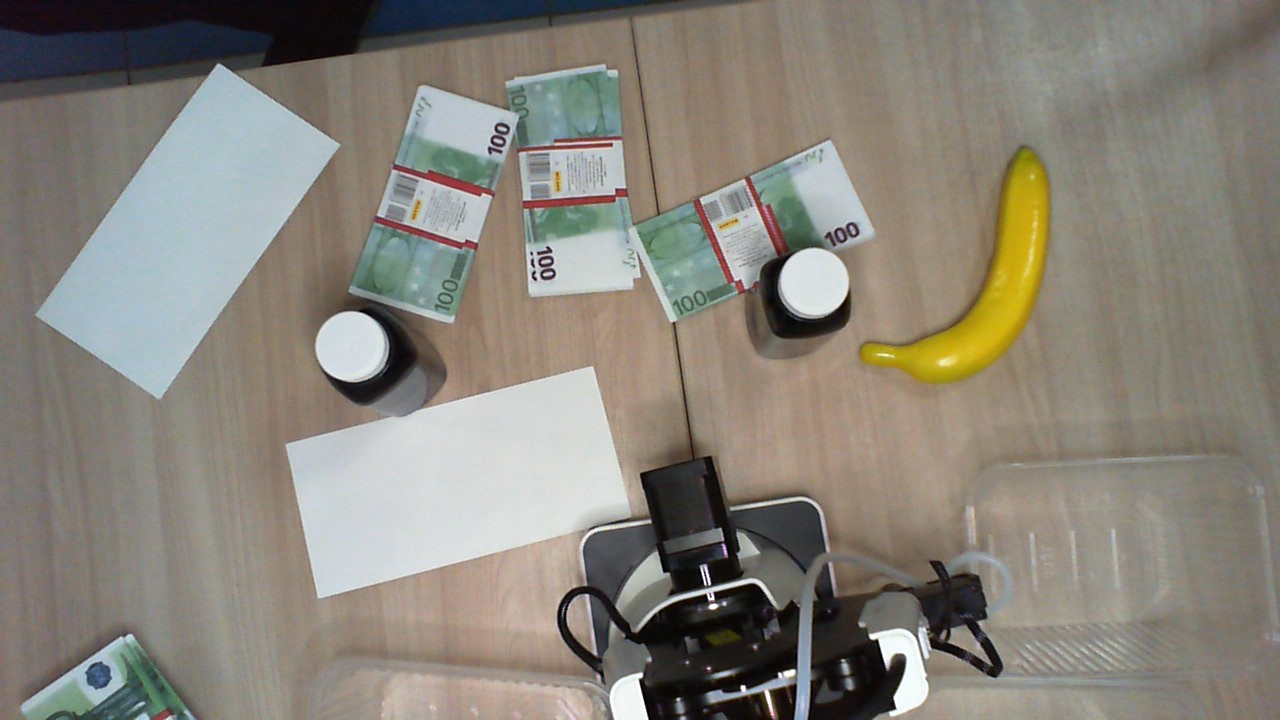banana: (856, 143, 1053, 386)
bottle: (315, 303, 414, 404), (758, 247, 851, 339)
convert: (36, 57, 343, 400), (284, 364, 634, 601)
money: (641, 139, 871, 320), (346, 85, 515, 321), (513, 63, 639, 304), (21, 631, 212, 720)
